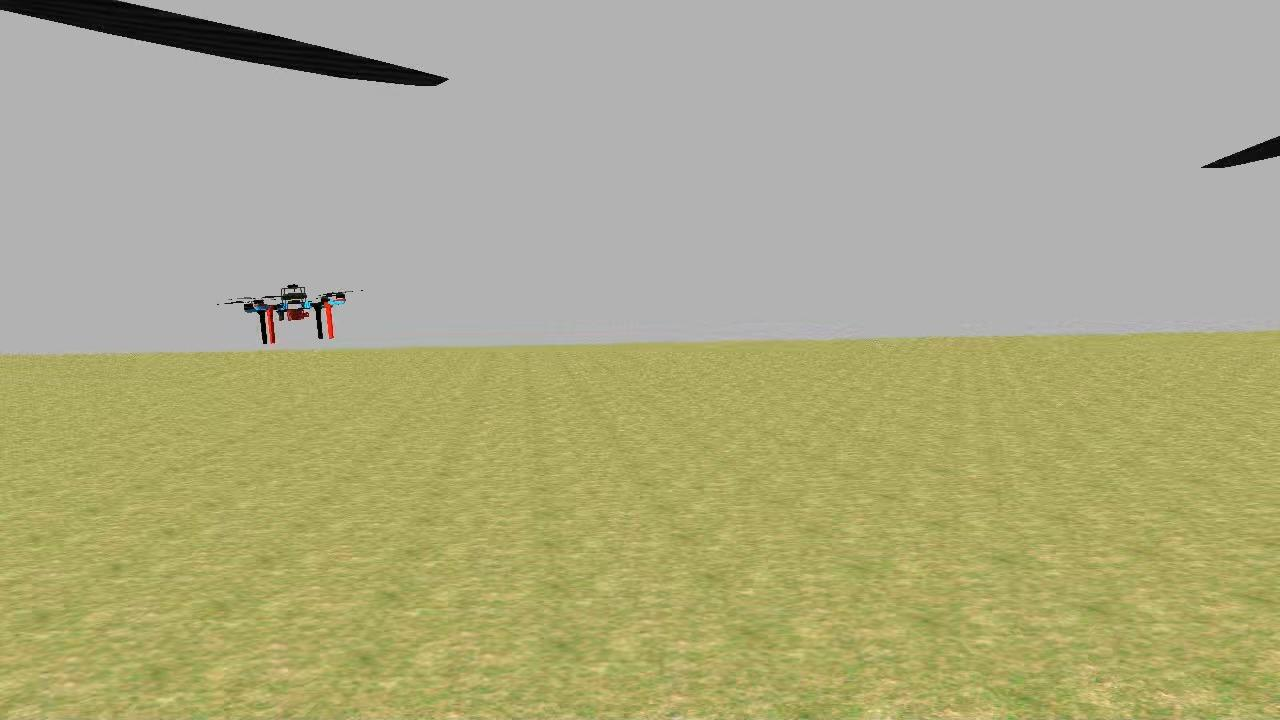UAV: (234, 280, 354, 348)
